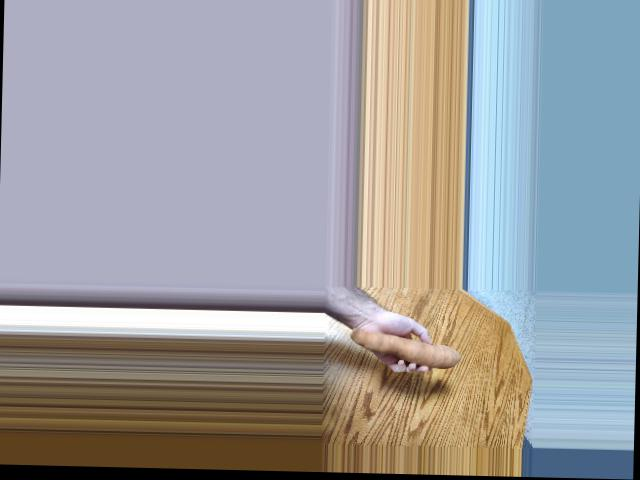sweet_potato: (356, 324, 466, 375)
